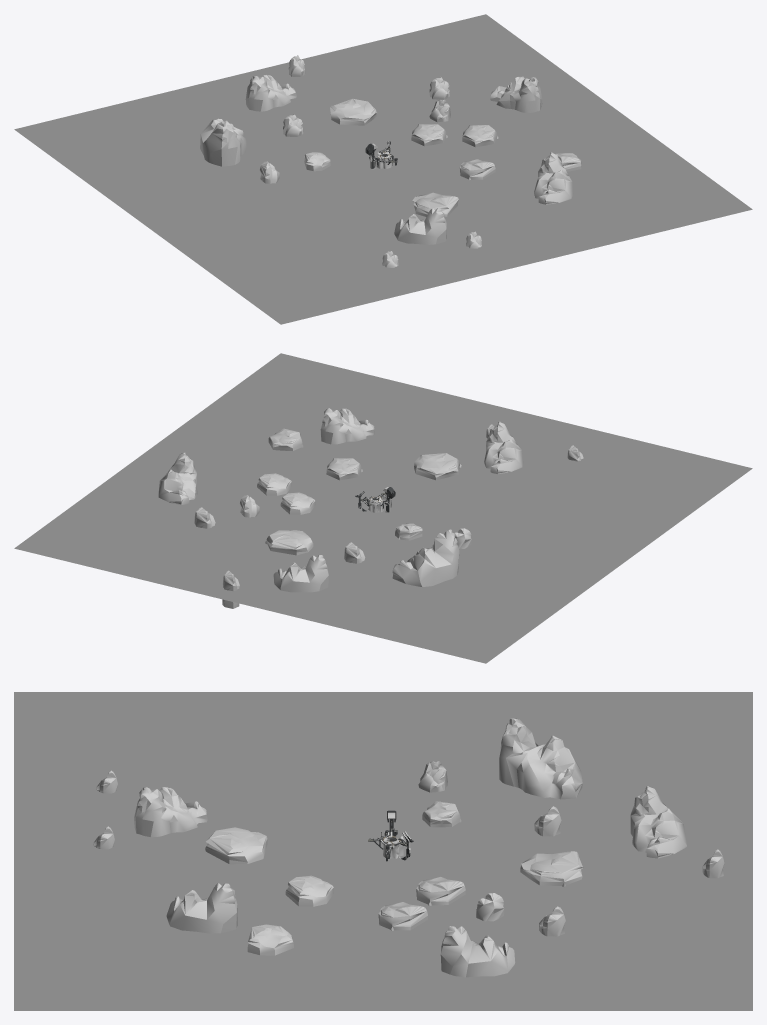
File: Ascension.FBX
3 views of the same model, one above another, from view 1: azimuth 30°, elevation 25°; view 2: azimuth 150°, elevation 25°; view 3: azimuth 270°, elevation 25° (orthographic). The views are drawn at different scales.
Parts seen in each view (by area): view 1: Clusters:006, Instances:rockcolumnuniquec, Instances:rockcolumnnewc01, Instances:rockcolumnnewc, Instances:rockcolumnuniquea, Instances:rockcolumnnewc02, Instances:rockcolumnnewd01, Instances:rockcolumnnewd, Instances:rockcolumnnewe, Instances:rockcolumnnewe03, Instances:rockcolumnnewe01; view 2: Clusters:006, Instances:rockcolumnuniquec, Instances:rockcolumnnewc02, Instances:rockcolumnuniquea, Instances:rockcolumnnewc, Instances:rockcolumnnewc01, Instances:rockcolumnnewd, Instances:rockcolumnnewd01, Instances:rockcolumnnewe01, Instances:rockcolumnnewe, Instances:rockcolumnnewe03, Instances:rockcolumnnewe02; view 3: Clusters:006, Instances:rockcolumnuniquec, Instances:rockcolumnnewc02, Instances:rockcolumnuniquea, Instances:rockcolumnnewc, Instances:rockcolumnnewc01, Instances:rockcolumnnewd, Instances:rockcolumnnewd01, Instances:rockcolumnnewe02, Instances:rockcolumnnewe01, Instances:rockcolumnnewe03, Instances:rockcolumnnewe (+5 smaller).
Part boxes in pixels (bbox=[...]): Clusters:006: bbox=[14, 14, 752, 324]; Instances:rockcolumnuniquec: bbox=[200, 118, 246, 166]; Instances:rockcolumnnewc01: bbox=[534, 152, 573, 204]; Instances:rockcolumnnewc: bbox=[394, 208, 446, 244]; Instances:rockcolumnuniquea: bbox=[490, 76, 542, 112]; Instances:rockcolumnnewc02: bbox=[245, 74, 296, 111]; Instances:rockcolumnnewd01: bbox=[330, 98, 377, 125]; Instances:rockcolumnnewd: bbox=[412, 192, 458, 216]; Instances:rockcolumnnewe: bbox=[411, 124, 447, 146]; Instances:rockcolumnnewe03: bbox=[462, 125, 498, 147]; Instances:rockcolumnnewe01: bbox=[459, 159, 495, 180]; Clusters:006: bbox=[14, 353, 752, 663]; Instances:rockcolumnuniquec: bbox=[392, 529, 459, 587]; Instances:rockcolumnnewc02: bbox=[273, 555, 328, 592]; Instances:rockcolumnuniquea: bbox=[158, 452, 197, 504]; Instances:rockcolumnnewc: bbox=[484, 421, 523, 474]; Instances:rockcolumnnewc01: bbox=[320, 408, 374, 444]; Instances:rockcolumnnewd: bbox=[414, 453, 461, 480]; Instances:rockcolumnnewd01: bbox=[265, 530, 313, 555]; Instances:rockcolumnnewe01: bbox=[326, 458, 362, 480]; Instances:rockcolumnnewe: bbox=[280, 492, 315, 514]; Instances:rockcolumnnewe03: bbox=[257, 473, 291, 495]; Instances:rockcolumnnewe02: bbox=[268, 428, 303, 450]; Clusters:006: bbox=[14, 692, 752, 1010]; Instances:rockcolumnuniquec: bbox=[499, 718, 582, 799]; Instances:rockcolumnnewc02: bbox=[630, 786, 686, 858]; Instances:rockcolumnuniquea: bbox=[440, 926, 515, 977]; Instances:rockcolumnnewc: bbox=[134, 787, 207, 837]; Instances:rockcolumnnewc01: bbox=[166, 883, 237, 933]; Instances:rockcolumnnewd: bbox=[205, 827, 267, 864]; Instances:rockcolumnnewd01: bbox=[520, 851, 582, 886]; Instances:rockcolumnnewe02: bbox=[247, 924, 293, 955]; Instances:rockcolumnnewe01: bbox=[285, 875, 333, 906]; Instances:rockcolumnnewe03: bbox=[378, 902, 427, 930]; Instances:rockcolumnnewe: bbox=[416, 877, 465, 905].
Size of the model in its own units: 70533 by 9568 by 69058.
